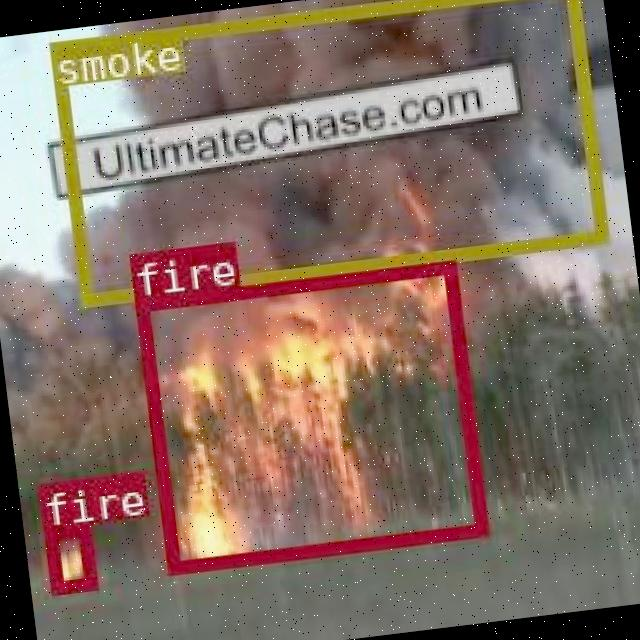fire: (134, 258, 485, 572), (40, 522, 96, 593)
smoke: (48, 0, 606, 303)
